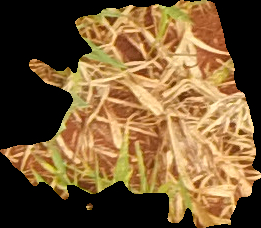soil: (1, 1, 261, 227)
